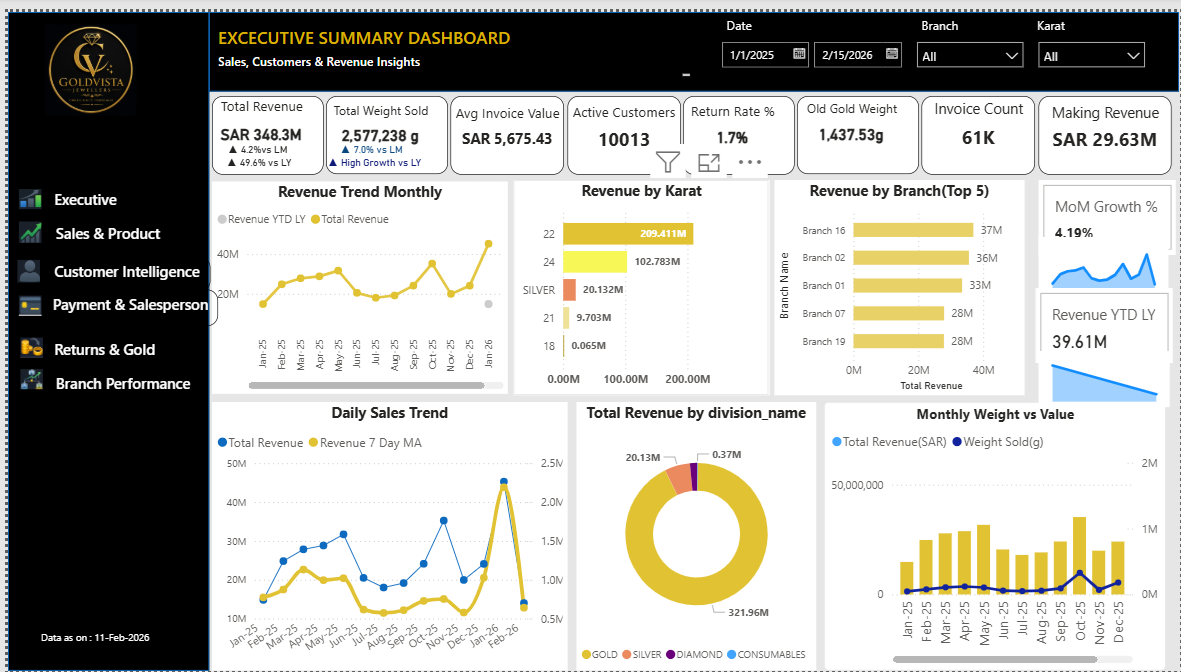

The dashboard page shown, as its layout file describes it:
{"tool":"powerbi","page":{"name":"Exective Dashboard","canvas":[1280,720],"ordinal":0},"visuals":[{"type":"shape","box":[0,0,220,720],"z":0},{"type":"image","box":[31.7,8.3,118.3,110],"z":1000},{"type":"card","fields":{"Values":["Measure.Last Data Date"]},"box":[0,653,190,67],"z":2000},{"type":"card","title":"Total Revenue","fields":{"Values":["Measure.Total Revenue Display"]},"box":[223,91,122,86],"z":3000},{"type":"card","title":"Avg Invoice Value","fields":{"Values":["Measure.Average Invoice Value KPI"]},"box":[484,91,124,86],"z":4000},{"type":"card","title":"Active Customers","fields":{"Values":["Measure.Acive Customers 90D"]},"box":[611,91,124,86],"z":5000},{"type":"card","fields":{"Values":["Measure.Revenue KPI MoM"]},"box":[214,141,115,42],"z":6000},{"type":"card","title":"Total Weight Sold","fields":{"Values":["Measure.Total Weight Display"]},"box":[348,91,133,85],"z":7000},{"type":"card","title":"Return Rate %","fields":{"Values":["Measure.Return Rate % Count"]},"box":[738,91,122,86],"z":8000},{"type":"card","title":"Invoice Count","fields":{"Values":["Measure.Invoice Count"]},"box":[999,91,124,86],"z":9000},{"type":"card","title":"Making Revenue","fields":{"Values":["Measure.Making Revenue Display"]},"box":[1126,91,145,86],"z":10000},{"type":"card","title":"Old Gold Weight ","fields":{"Values":["Measure.Old Gold  Weight K Kg"]},"box":[863,91,133,85],"z":11000},{"type":"card","fields":{"Values":["Measure.Revenue KPI YoY"]},"box":[217,155,115,42],"z":12000},{"type":"card","fields":{"Values":["Measure.Weight KPI MoM"]},"box":[339,141,115,42],"z":13000},{"type":"card","fields":{"Values":["Measure.Weight KPI YoY Display"]},"box":[342,156,115,42],"z":14000},{"type":"lineChart","title":"Revenue Trend Monthly","fields":{"Y":["Measure.Revenue YTD LY","Measure.Total Revenue","select"],"Category":["dim_date.YearMonth"]},"box":[223.3,185,323.3,231.7],"z":15000},{"type":"barChart","title":"Revenue by Karat","fields":{"Category":["public dim_karat.karat_name"],"Y":["Measure.Total Revenue1"]},"box":[551.7,183.3,280,235],"z":16000},{"type":"clusteredBarChart","title":"Revenue by Branch(Top 5)","fields":{"Category":["public vw_sales_clean.branch_name"],"Y":["Measure.Total Revenue"]},"box":[838.3,183.3,273.3,235],"z":17000},{"type":"lineChart","title":"Daily Sales Trend","fields":{"Y":["Measure.Total Revenue"],"Category":["dim_date.YearMonth"],"Y2":["Measure.Revenue 7 Day MA"]},"box":[223.3,426.7,388.3,293.3],"z":18000},{"type":"donutChart","fields":{"Category":["public dim_division.division_name"],"Y":["Measure.Total Revenue"]},"box":[621.7,426.7,261.7,293.3],"z":19000},{"type":"lineClusteredColumnComboChart","title":"Monthly Weight vs Value","fields":{"Category":["dim_date.YearMonth"],"Y2":["Measure.Total Weight"],"Y":["Measure.Total Revenue"]},"box":[891.7,426.7,373.3,293.3],"z":20000},{"type":"shape","box":[220,0,1060,87],"z":21000},{"type":"textbox","title":"EXCECUTIVE SUMMARY DASHBOARD","box":[224.1,14.5,514.5,63.9],"z":22000},{"type":"slicer","fields":{"Values":["dim_date.Date"]},"box":[767,23,217,64],"z":23000},{"type":"textbox","box":[780,0,74,30],"z":24000},{"type":"slicer","fields":{"Values":["public dim_branch.branch_name"]},"box":[984,23,136,55],"z":25000},{"type":"slicer","fields":{"Values":["public dim_karat.karat_name"]},"box":[1117,23,136,55],"z":26000},{"type":"textbox","box":[993,0,74,30],"z":27000},{"type":"textbox","box":[1120,0,74,30],"z":28000},{"type":"cardVisual","fields":{"Data":["Measure.MoM Growth %"]},"box":[1126.7,183.3,150,81.7],"z":29000},{"type":"lineChart","fields":{"Category":["dim_date.YearMonth"],"Y":["Measure.Total Revenue"]},"box":[1126.7,246.7,141.7,61.7],"z":30000},{"type":"cardVisual","fields":{"Data":["Measure.Revenue YTD LY"]},"box":[1123.3,301.7,150,81.7],"z":31000},{"type":"lineChart","fields":{"Y":["Measure.Total Revenue"],"Category":["dim_date.Year"]},"box":[1126.7,370,143.3,61],"z":32000},{"type":"actionButton","title":"Executive","box":[46.7,187.8,154,39],"z":33000},{"type":"actionButton","title":"Sales & Product","box":[47.7,226.8,154,39],"z":34000},{"type":"actionButton","title":"Customer Intelligence","box":[43.4,266.3,174.7,38.6],"z":35000},{"type":"actionButton","title":"Payment & Salesperson","box":[41,303.6,179.5,39.8],"z":36000},{"type":"actionButton","title":"Returns & Gold","box":[46.7,351.8,154,39],"z":37000},{"type":"actionButton","title":"Branch Performance","box":[47,390.5,155,41],"z":38000},{"type":"image","box":[6.7,187.3,35,35],"z":39000},{"type":"image","box":[8.3,384,35,35],"z":40000},{"type":"image","box":[8.3,349,35,35],"z":41000},{"type":"image","box":[5,265.7,35,35],"z":42000},{"type":"image","box":[6.7,304,35,35],"z":43000},{"type":"image","box":[6.7,222.3,35,35],"z":44000}]}

Visuals, with their boxes on the page's 1280x720 design canvas (x1, y1, x2, y2). These are canvas units, not pixel positions in the 1181x672 screenshot, which may show the page scaled, cropped or inside an application window:
shape: left=0, top=0, right=220, bottom=720
image: left=32, top=8, right=150, bottom=118
card - Measure.Last Data Date: left=0, top=653, right=190, bottom=720
"Total Revenue" card: left=223, top=91, right=345, bottom=177
"Avg Invoice Value" card: left=484, top=91, right=608, bottom=177
"Active Customers" card: left=611, top=91, right=735, bottom=177
card - Measure.Revenue KPI MoM: left=214, top=141, right=329, bottom=183
"Total Weight Sold" card: left=348, top=91, right=481, bottom=176
"Return Rate %" card: left=738, top=91, right=860, bottom=177
"Invoice Count" card: left=999, top=91, right=1123, bottom=177
"Making Revenue" card: left=1126, top=91, right=1271, bottom=177
"Old Gold Weight " card: left=863, top=91, right=996, bottom=176
card - Measure.Revenue KPI YoY: left=217, top=155, right=332, bottom=197
card - Measure.Weight KPI MoM: left=339, top=141, right=454, bottom=183
card - Measure.Weight KPI YoY Display: left=342, top=156, right=457, bottom=198
"Revenue Trend Monthly" lineChart: left=223, top=185, right=547, bottom=417
"Revenue by Karat" barChart: left=552, top=183, right=832, bottom=418
"Revenue by Branch(Top 5)" clusteredBarChart: left=838, top=183, right=1112, bottom=418
"Daily Sales Trend" lineChart: left=223, top=427, right=612, bottom=720
donutChart - public dim_division.division_name x Measure.Total Revenue: left=622, top=427, right=883, bottom=720
"Monthly Weight vs Value" lineClusteredColumnComboChart: left=892, top=427, right=1265, bottom=720
shape: left=220, top=0, right=1280, bottom=87
"EXCECUTIVE SUMMARY DASHBOARD" textbox: left=224, top=14, right=739, bottom=78
slicer - dim_date.Date: left=767, top=23, right=984, bottom=87
textbox: left=780, top=0, right=854, bottom=30
slicer - public dim_branch.branch_name: left=984, top=23, right=1120, bottom=78
slicer - public dim_karat.karat_name: left=1117, top=23, right=1253, bottom=78
textbox: left=993, top=0, right=1067, bottom=30
textbox: left=1120, top=0, right=1194, bottom=30
cardVisual - Measure.MoM Growth %: left=1127, top=183, right=1277, bottom=265
lineChart - dim_date.YearMonth x Measure.Total Revenue: left=1127, top=247, right=1268, bottom=308
cardVisual - Measure.Revenue YTD LY: left=1123, top=302, right=1273, bottom=383
lineChart - Measure.Total Revenue x dim_date.Year: left=1127, top=370, right=1270, bottom=431
"Executive" actionButton: left=47, top=188, right=201, bottom=227
"Sales & Product" actionButton: left=48, top=227, right=202, bottom=266
"Customer Intelligence" actionButton: left=43, top=266, right=218, bottom=305
"Payment & Salesperson" actionButton: left=41, top=304, right=220, bottom=343
"Returns & Gold" actionButton: left=47, top=352, right=201, bottom=391
"Branch Performance" actionButton: left=47, top=390, right=202, bottom=432
image: left=7, top=187, right=42, bottom=222
image: left=8, top=384, right=43, bottom=419
image: left=8, top=349, right=43, bottom=384
image: left=5, top=266, right=40, bottom=301
image: left=7, top=304, right=42, bottom=339
image: left=7, top=222, right=42, bottom=257
